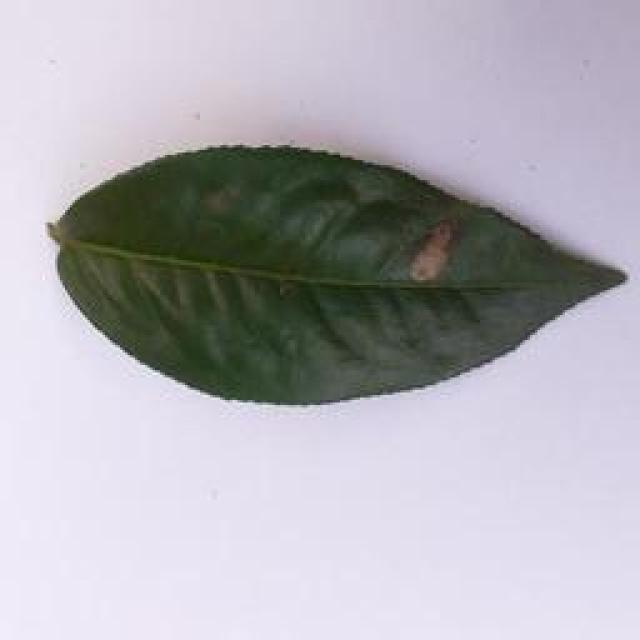Gray Blight: (34, 138, 636, 416)
